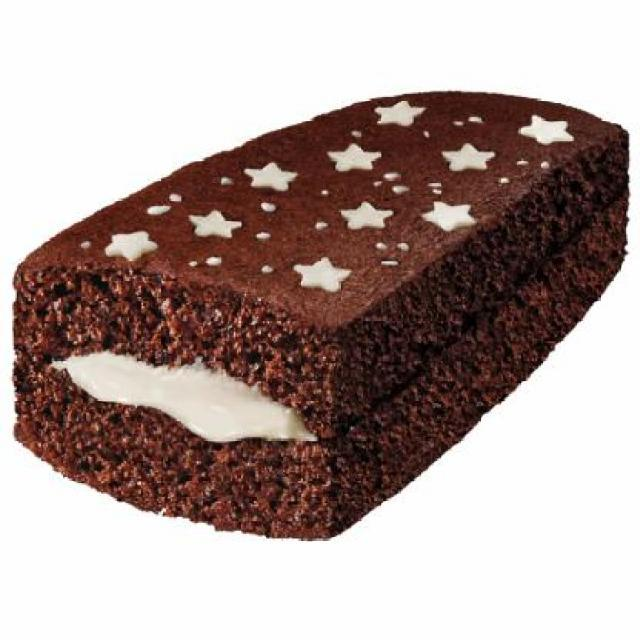Merendine packaged: (6, 89, 631, 546)
